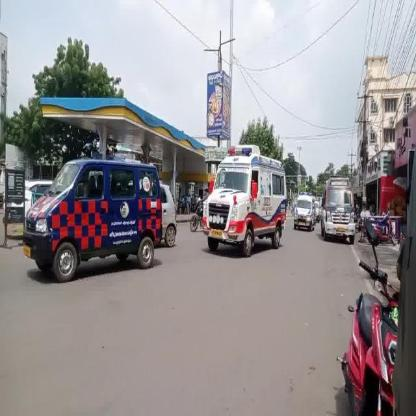priority: (19, 151, 175, 313), (202, 134, 301, 263), (321, 174, 362, 252)
